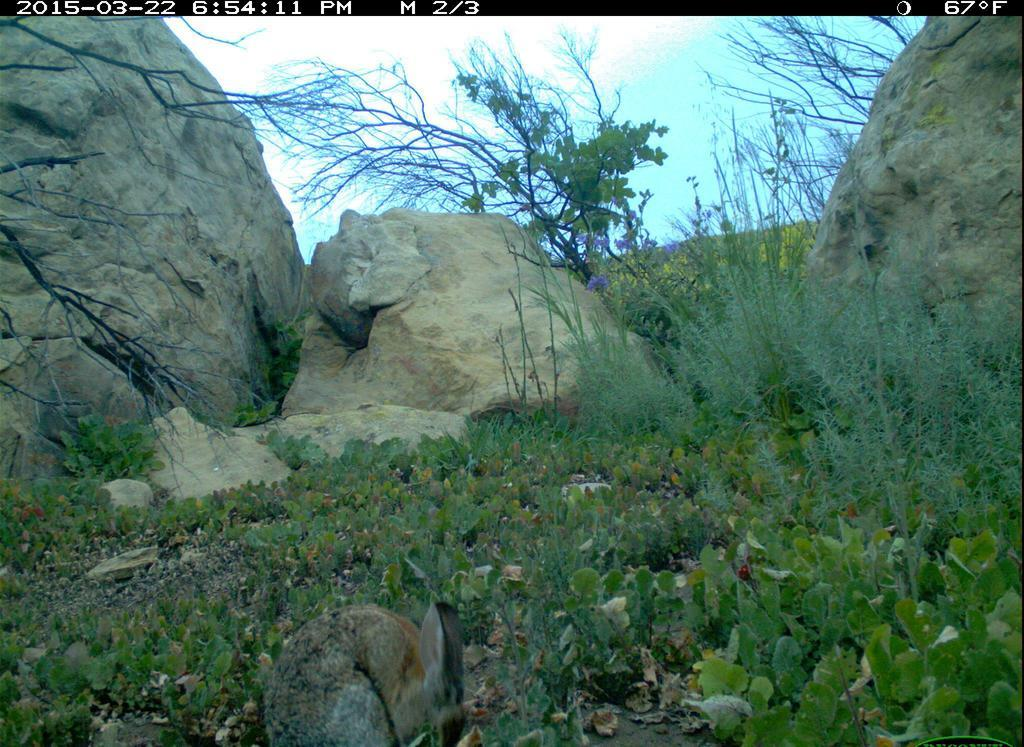rabbit: (251, 587, 478, 745)
